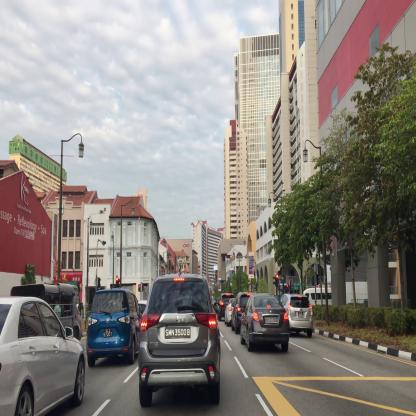red_traffic_light: (226, 254, 232, 258), (276, 274, 278, 286), (116, 276, 118, 286)
